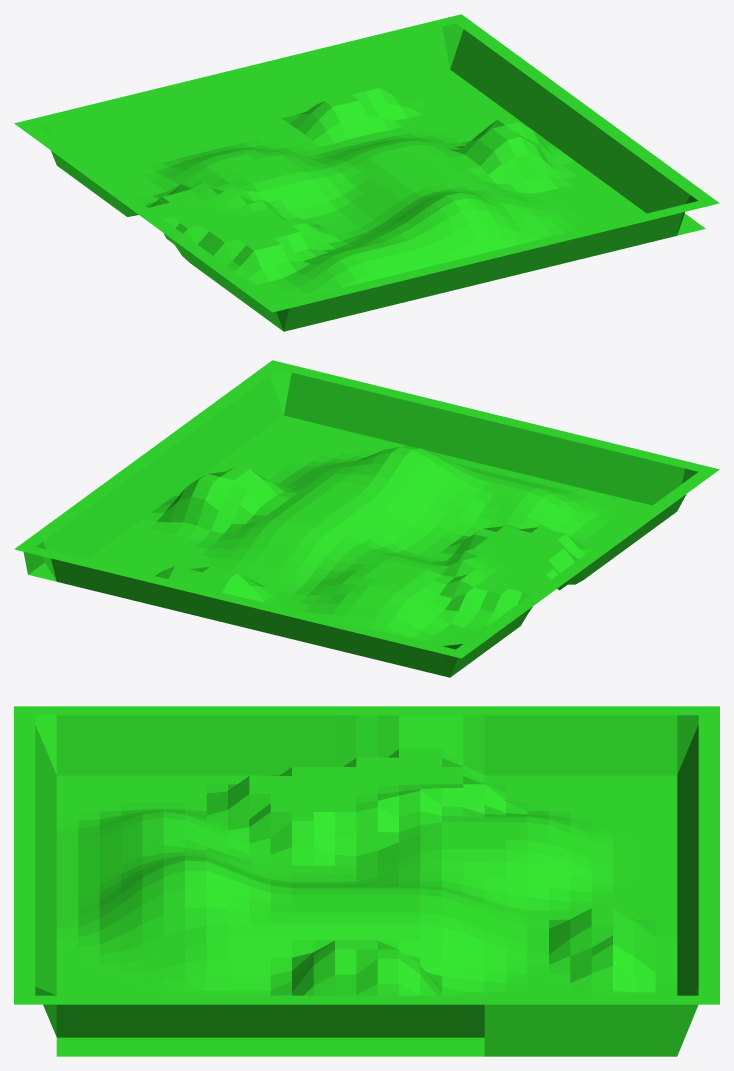
3 renders of one model, top to bottom at view 1: azimuth 30°, elevation 25°; view 2: azimuth 150°, elevation 25°; view 3: azimuth 270°, elevation 25°, orthographic. The views are drawn at different scales.
Parts seen in each view (by area): view 1: Plane; view 2: Plane; view 3: Plane.
Boxes of the visible parts, <box> form: Plane: <box>14,14,719,331</box>; Plane: <box>14,360,719,677</box>; Plane: <box>14,706,719,1056</box>.
Bounding box in the file's own units: 1007 × 92.93 × 1003.
